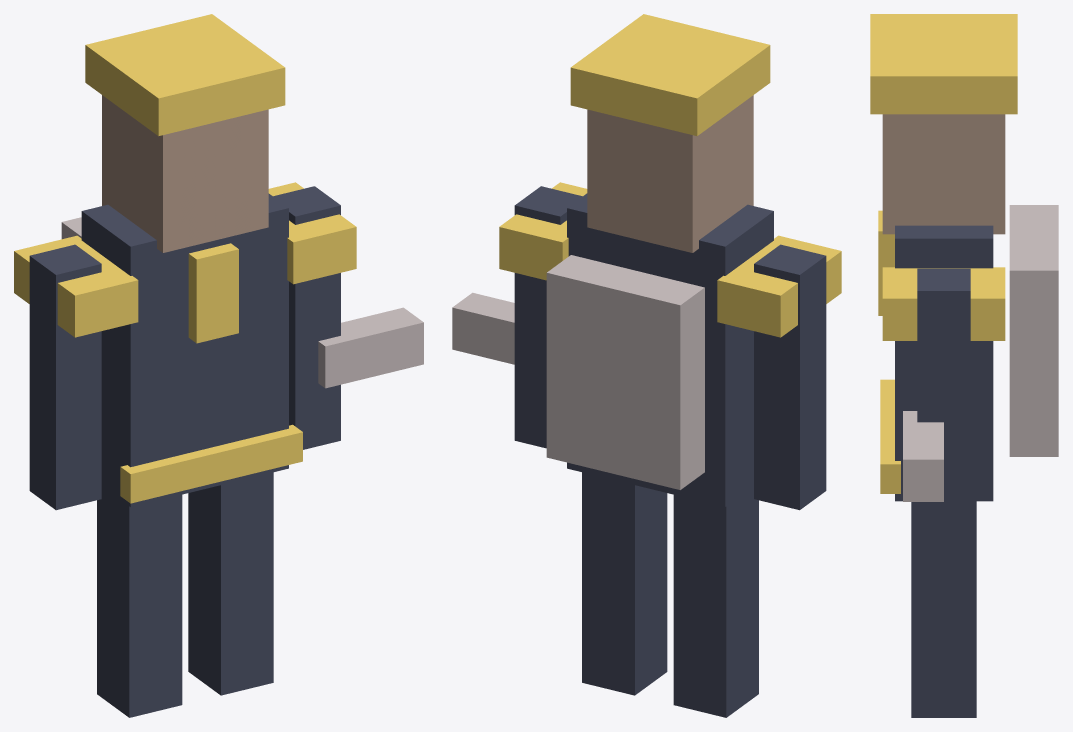
The model's file is 11_talia_voidrill_courier_of_data.glb.
3 renders of one model, left to right at view 1: azimuth 30°, elevation 25°; view 2: azimuth 150°, elevation 25°; view 3: azimuth 270°, elevation 25°, orthographic.
Visible parts, largest first — view 1: Talia Voidrill, Courier of Data; view 2: Talia Voidrill, Courier of Data; view 3: Talia Voidrill, Courier of Data.
Boxes of the visible parts, x1=… form: Talia Voidrill, Courier of Data: x1=14, y1=14, x2=423, y2=717; Talia Voidrill, Courier of Data: x1=452, y1=14, x2=841, y2=717; Talia Voidrill, Courier of Data: x1=870, y1=14, x2=1058, y2=717.
Size of the model in its own units: 0.9495 by 1.59 by 0.4261.
